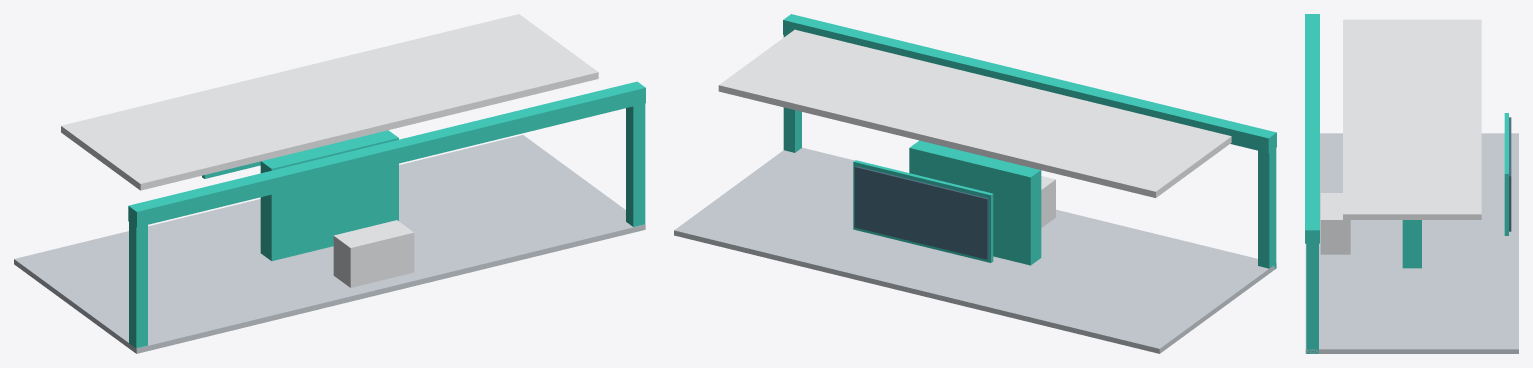
3 views of the same model, side by side, from view 1: azimuth 30°, elevation 25°; view 2: azimuth 150°, elevation 25°; view 3: azimuth 270°, elevation 25° (orthographic). The views are drawn at different scales.
Parts seen in each view (by area): view 1: Exhibition Booth Concept; view 2: Exhibition Booth Concept; view 3: Exhibition Booth Concept.
Part boxes in pixels (box(x1,y1,x2,y2)): Exhibition Booth Concept: box(14, 14, 645, 353); Exhibition Booth Concept: box(674, 14, 1276, 353); Exhibition Booth Concept: box(1305, 14, 1518, 353).
Size of the model in its own units: 12 by 3.34 by 5.02.
